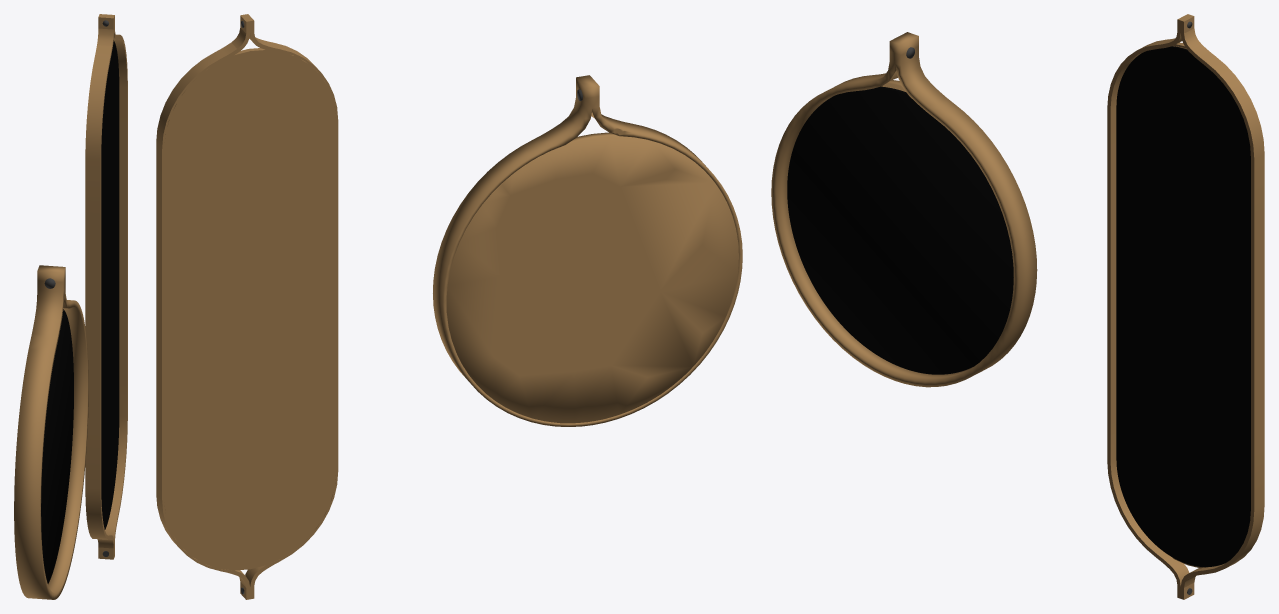
File: mirrors.glb
The picture shows the model from 3 angles, left to right: view 1: azimuth 30°, elevation 25°; view 2: azimuth 150°, elevation 25°; view 3: azimuth 270°, elevation 25°; orthographic projection. The views are drawn at different scales.
Visible parts, largest first — view 1: mirrors, mirrors_2; view 2: mirrors, mirrors_2; view 3: mirrors, mirrors_2.
Part boxes in pixels (x1,y1,x2,y2): mirrors: (85,14,127,559); mirrors_2: (14,265,88,599); mirrors: (156,14,338,599); mirrors_2: (433,75,742,426); mirrors: (1107,14,1264,599); mirrors_2: (771,32,1037,387).
Bounding box in the file's own units: 9.64 × 15.04 × 11.63.
